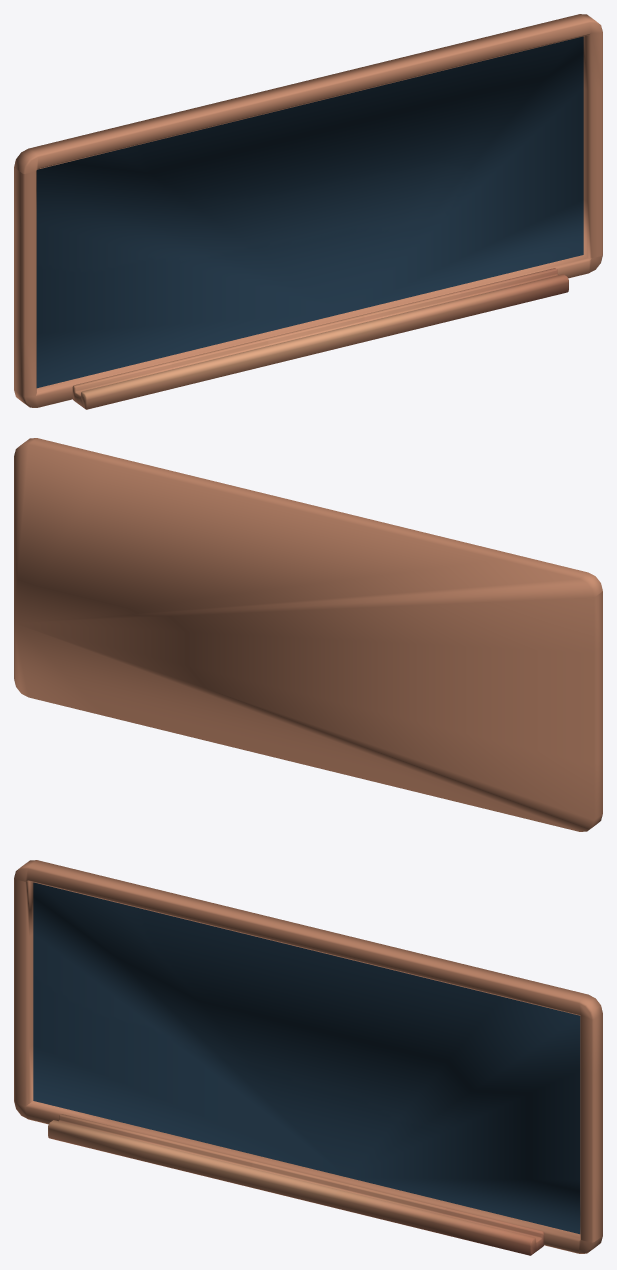
File: Chlakboard.fbx
3 views of the same model, one above another, from view 1: azimuth 30°, elevation 25°; view 2: azimuth 150°, elevation 25°; view 3: azimuth 330°, elevation 25° (orthographic).
Parts seen in each view (by area): view 1: Chlakboard.001, Chlakboard.002; view 2: Chlakboard.001; view 3: Chlakboard.001, Chlakboard.002.
Part boxes in pixels (left/top/right/bottom): Chlakboard.001: left=14, top=14, right=602, bottom=407; Chlakboard.002: left=72, top=268, right=568, bottom=409; Chlakboard.001: left=14, top=438, right=602, bottom=831; Chlakboard.001: left=14, top=860, right=602, bottom=1253; Chlakboard.002: left=48, top=1114, right=544, bottom=1255.
Bounding box in the file's own units: 0.323 × 4.58 × 1.91.
